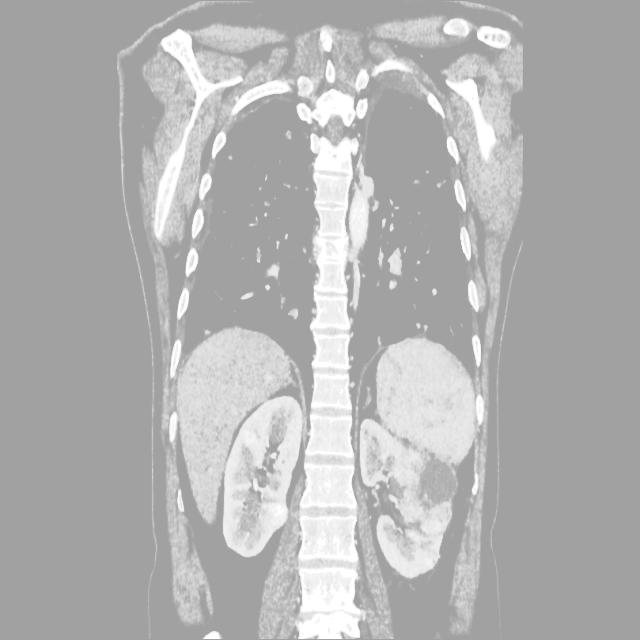TUMOR: (101, 303, 545, 531)
